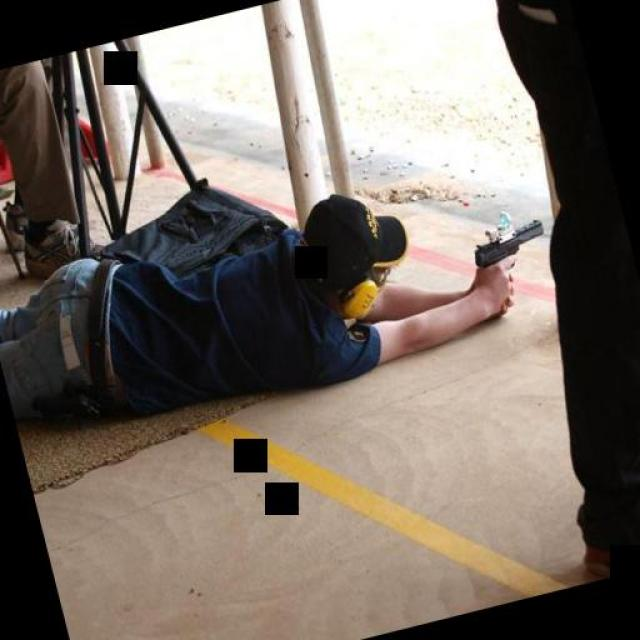gun: (462, 200, 554, 280)
